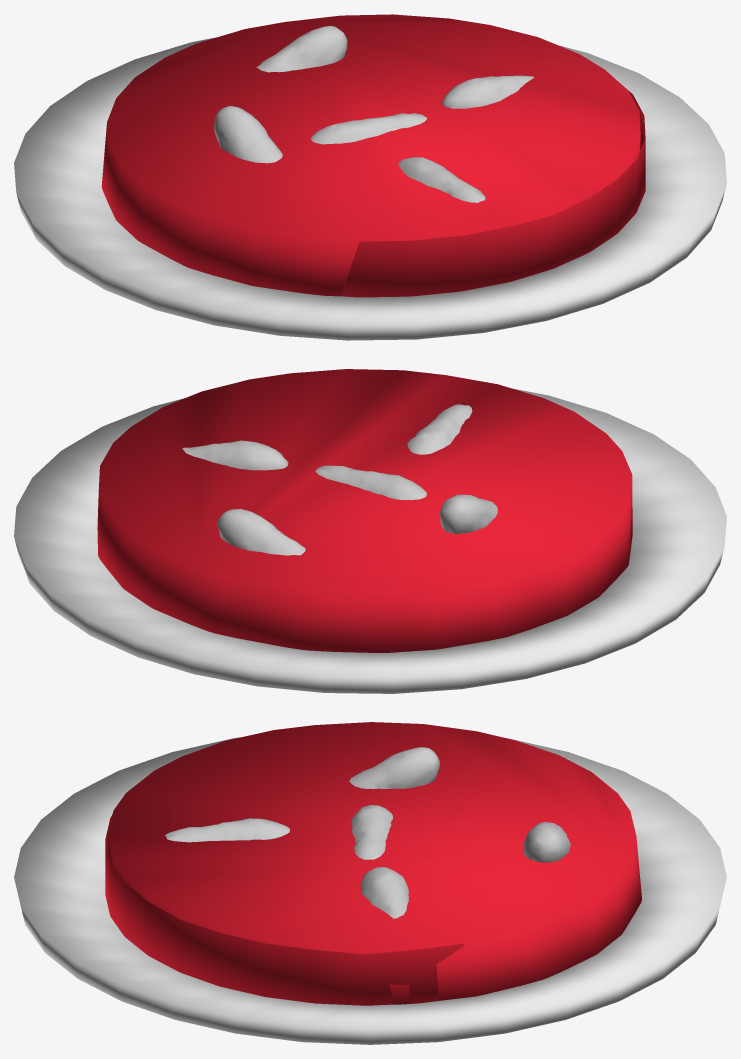
File: cucumberTortilla.fbx
The picture shows the model from 3 angles, top to bottom: view 1: azimuth 30°, elevation 25°; view 2: azimuth 150°, elevation 25°; view 3: azimuth 270°, elevation 25°; orthographic projection.
Parts seen in each view (by area): view 1: cucumberTortilla; view 2: cucumberTortilla; view 3: cucumberTortilla.
Part boxes in pixels (x1,y1,x2,y2): cucumberTortilla: [14, 14, 726, 340]; cucumberTortilla: [14, 369, 726, 693]; cucumberTortilla: [14, 722, 726, 1044].
Bounding box in the file's own units: 178 × 34.94 × 178.
